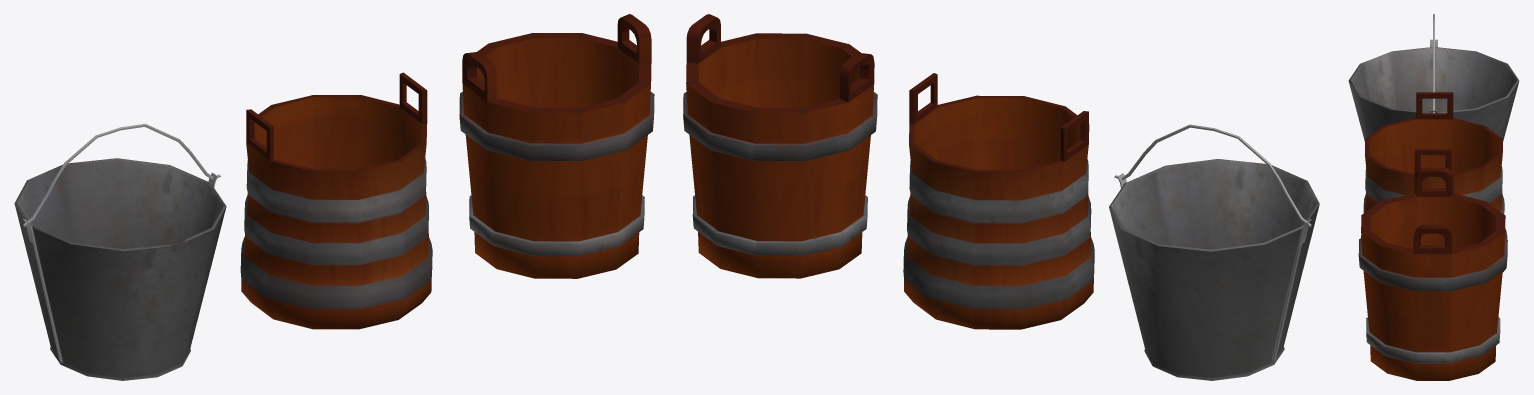
File: Baldes.fbx
3 views of the same model, side by side, from view 1: azimuth 30°, elevation 25°; view 2: azimuth 150°, elevation 25°; view 3: azimuth 270°, elevation 25° (orthographic). The views are drawn at different scales.
Parts seen in each view (by area): view 1: BaldeMadeira, BaldeMadeiraLP, BaldeFerro; view 2: BaldeMadeira, BaldeMadeiraLP, BaldeFerro; view 3: BaldeMadeira, BaldeFerro, BaldeMadeiraLP.
Part boxes in pixels (x1,y1,x2,y2): BaldeMadeira: (459,14,654,278); BaldeMadeiraLP: (240,72,432,329); BaldeFerro: (14,123,226,380); BaldeMadeira: (683,14,877,278); BaldeMadeiraLP: (903,73,1094,329); BaldeFerro: (1109,124,1319,380); BaldeMadeira: (1358,167,1507,380); BaldeFerro: (1348,14,1519,141); BaldeMadeiraLP: (1361,92,1507,272).
Size of the model in its own units: 83.84 by 29.15 by 26.31.
